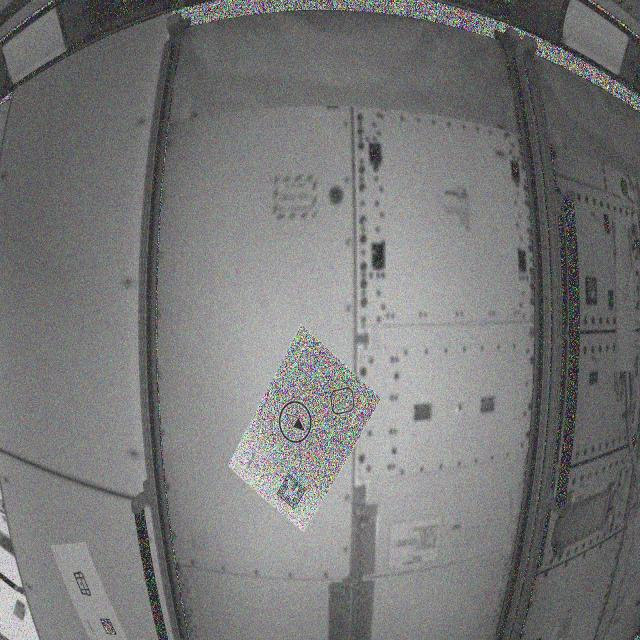compass: (265, 399, 321, 450)
emerald: (330, 382, 360, 424)
